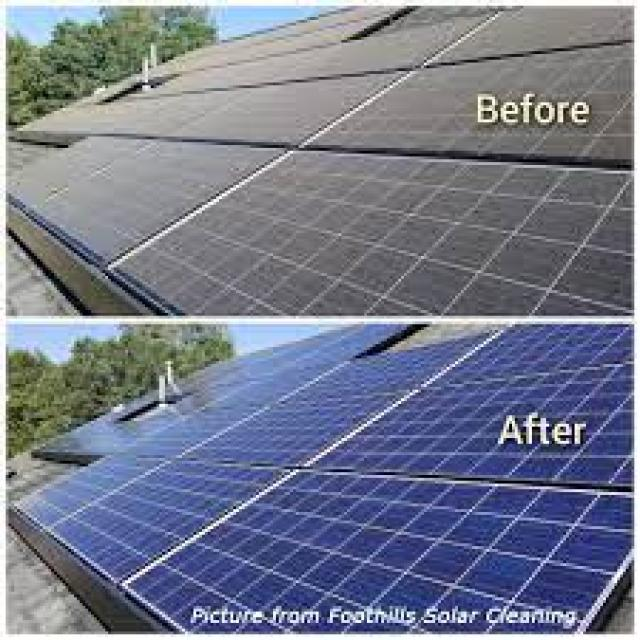clean-solar-panel: (9, 326, 631, 632)
dust-solar-panel: (0, 8, 632, 318)
